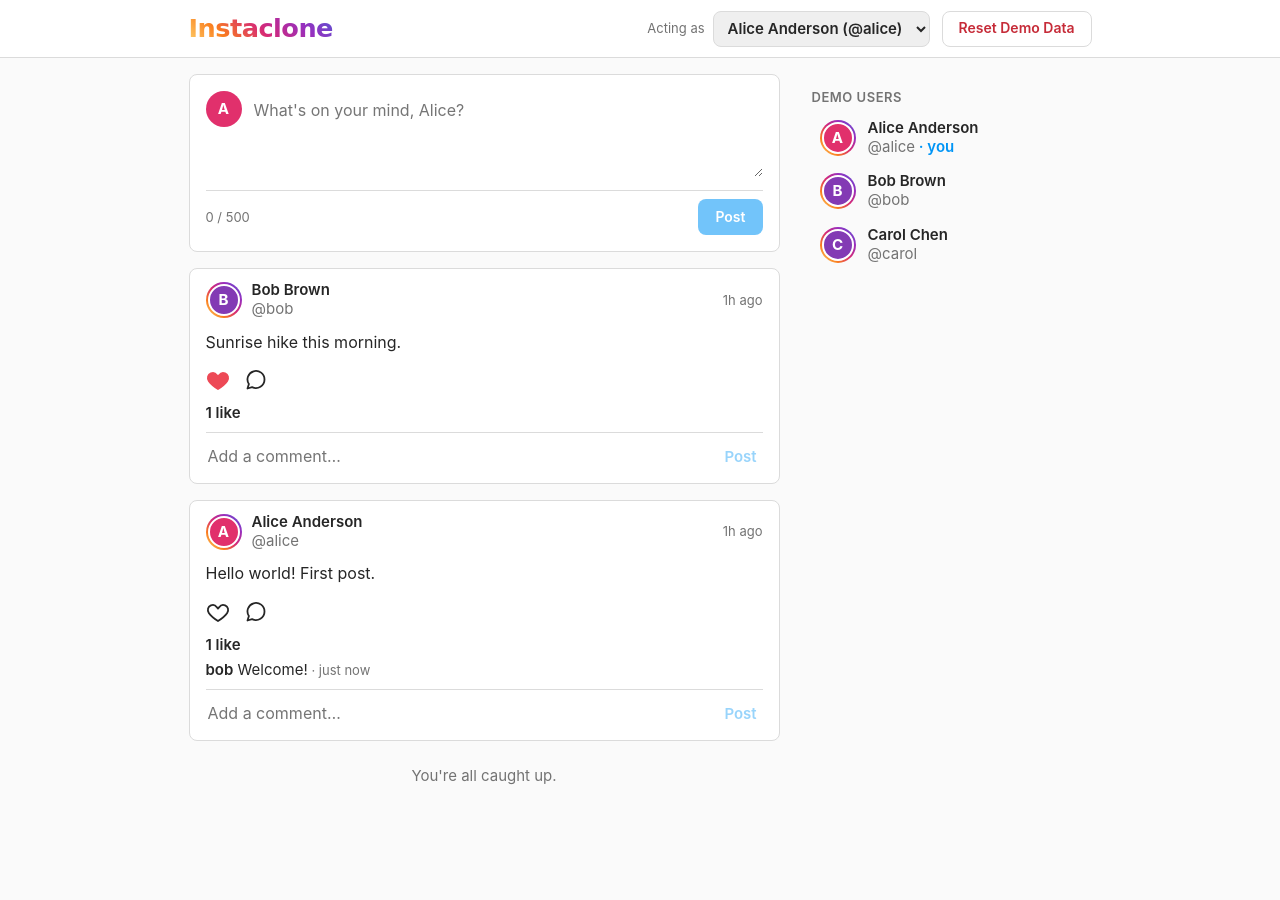
Test: reset demo data › asks for confirmation; cancel and Escape do nothing
Click the button "Reset Demo Data" at (1017, 28), box [942,10,1092,46]
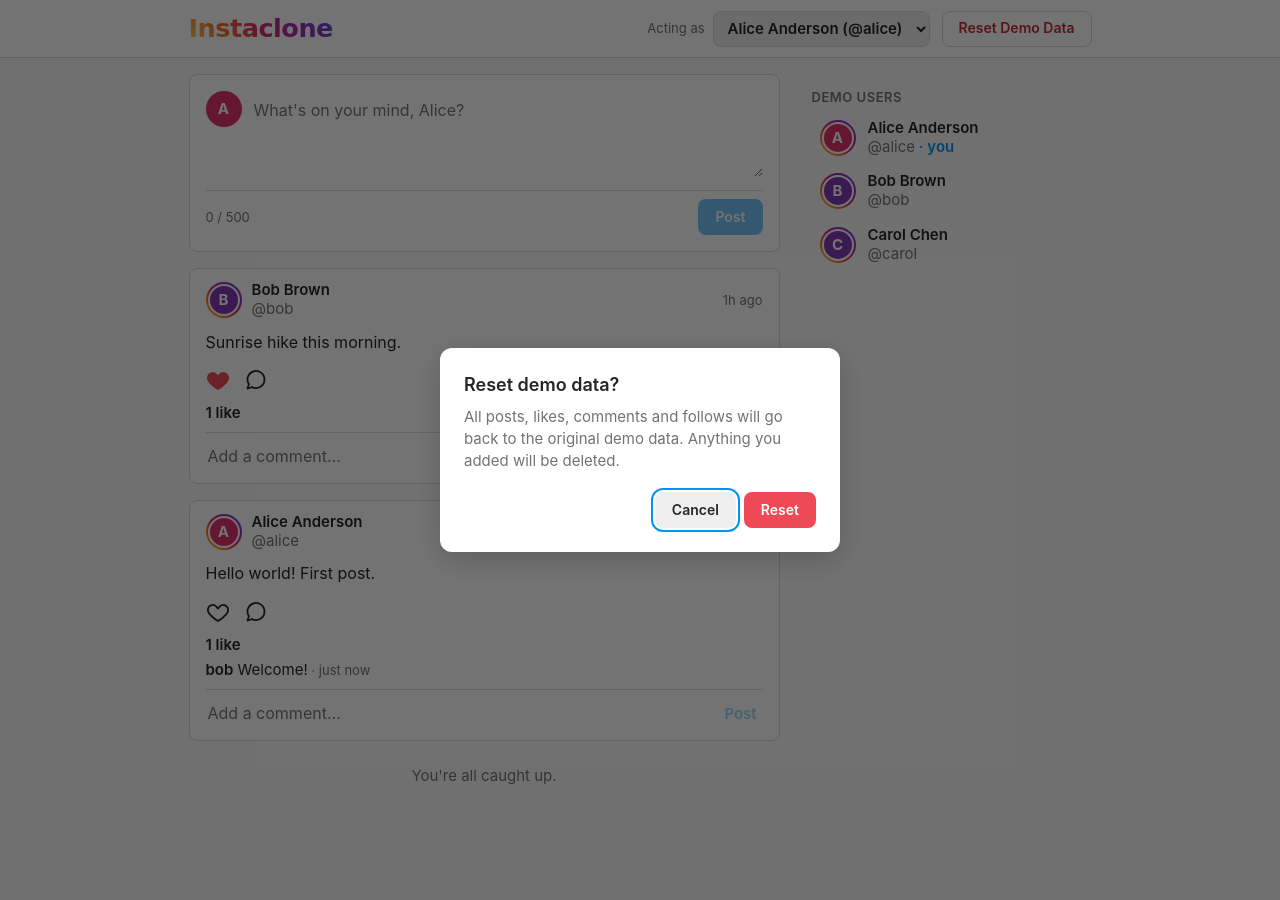
Click the button "Cancel" at (695, 510), box [655,492,736,528]
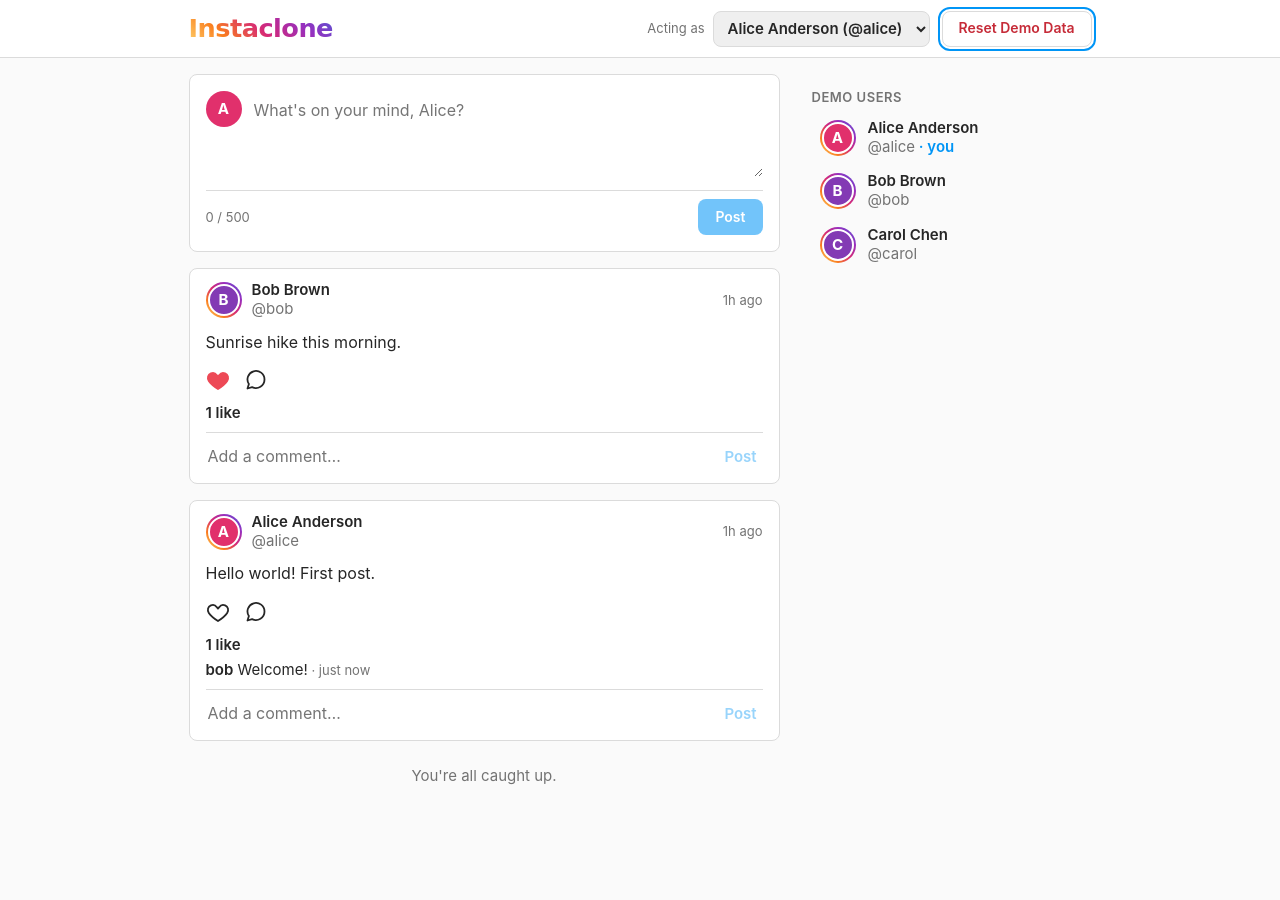
Expected: the dialog is gone
Click the button "Reset Demo Data" at (1017, 28), box [942,10,1092,46]
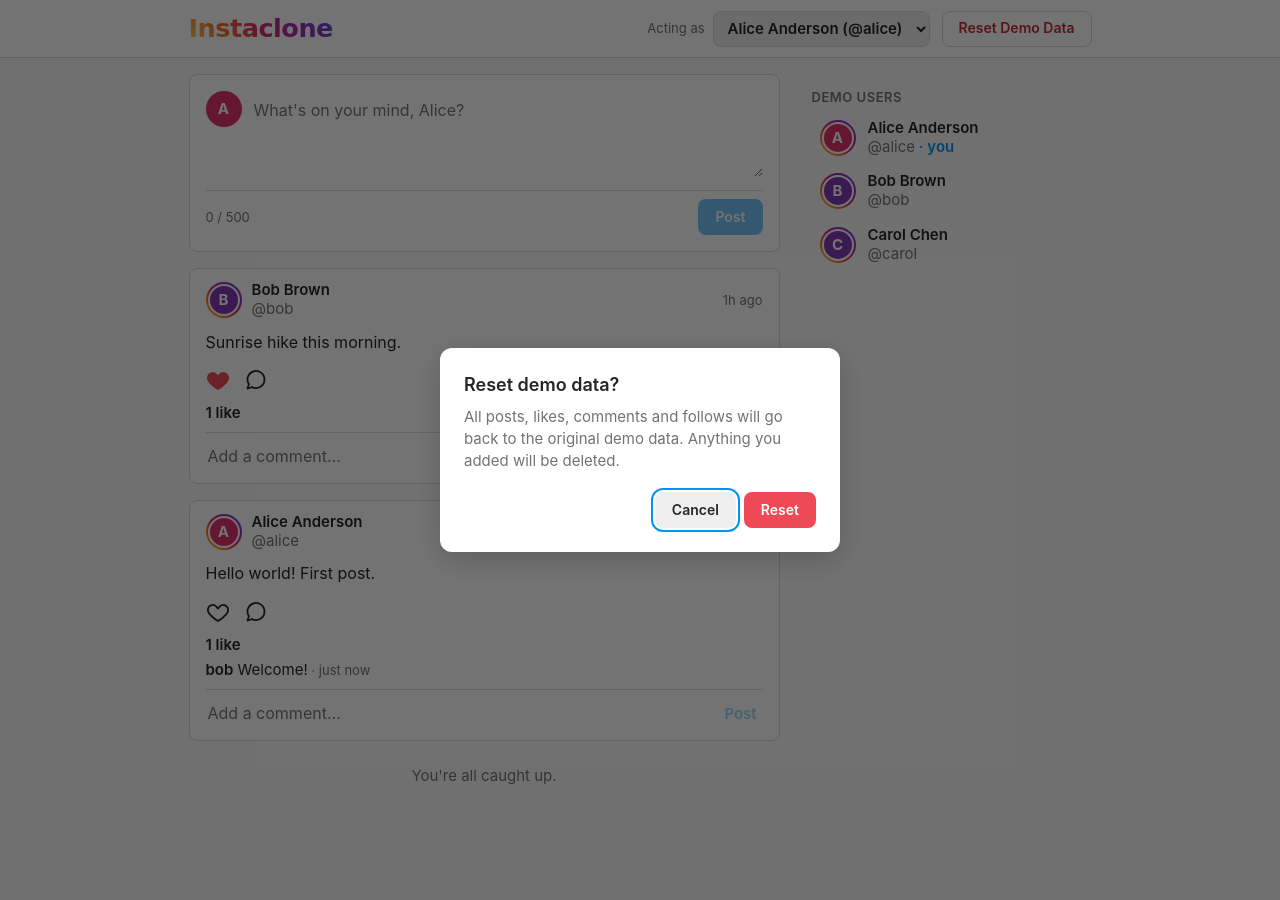
Press Escape
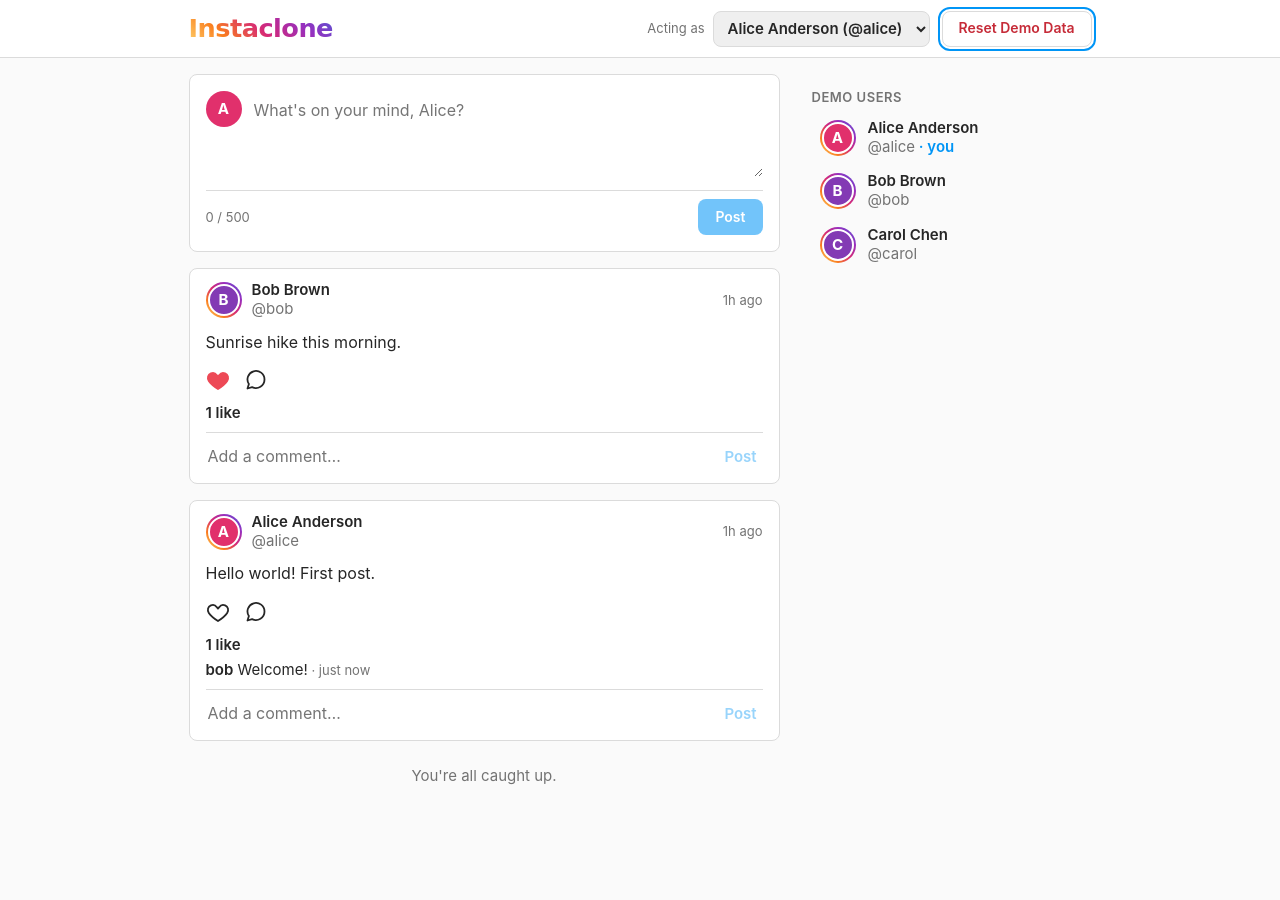
Expected: the dialog is gone
